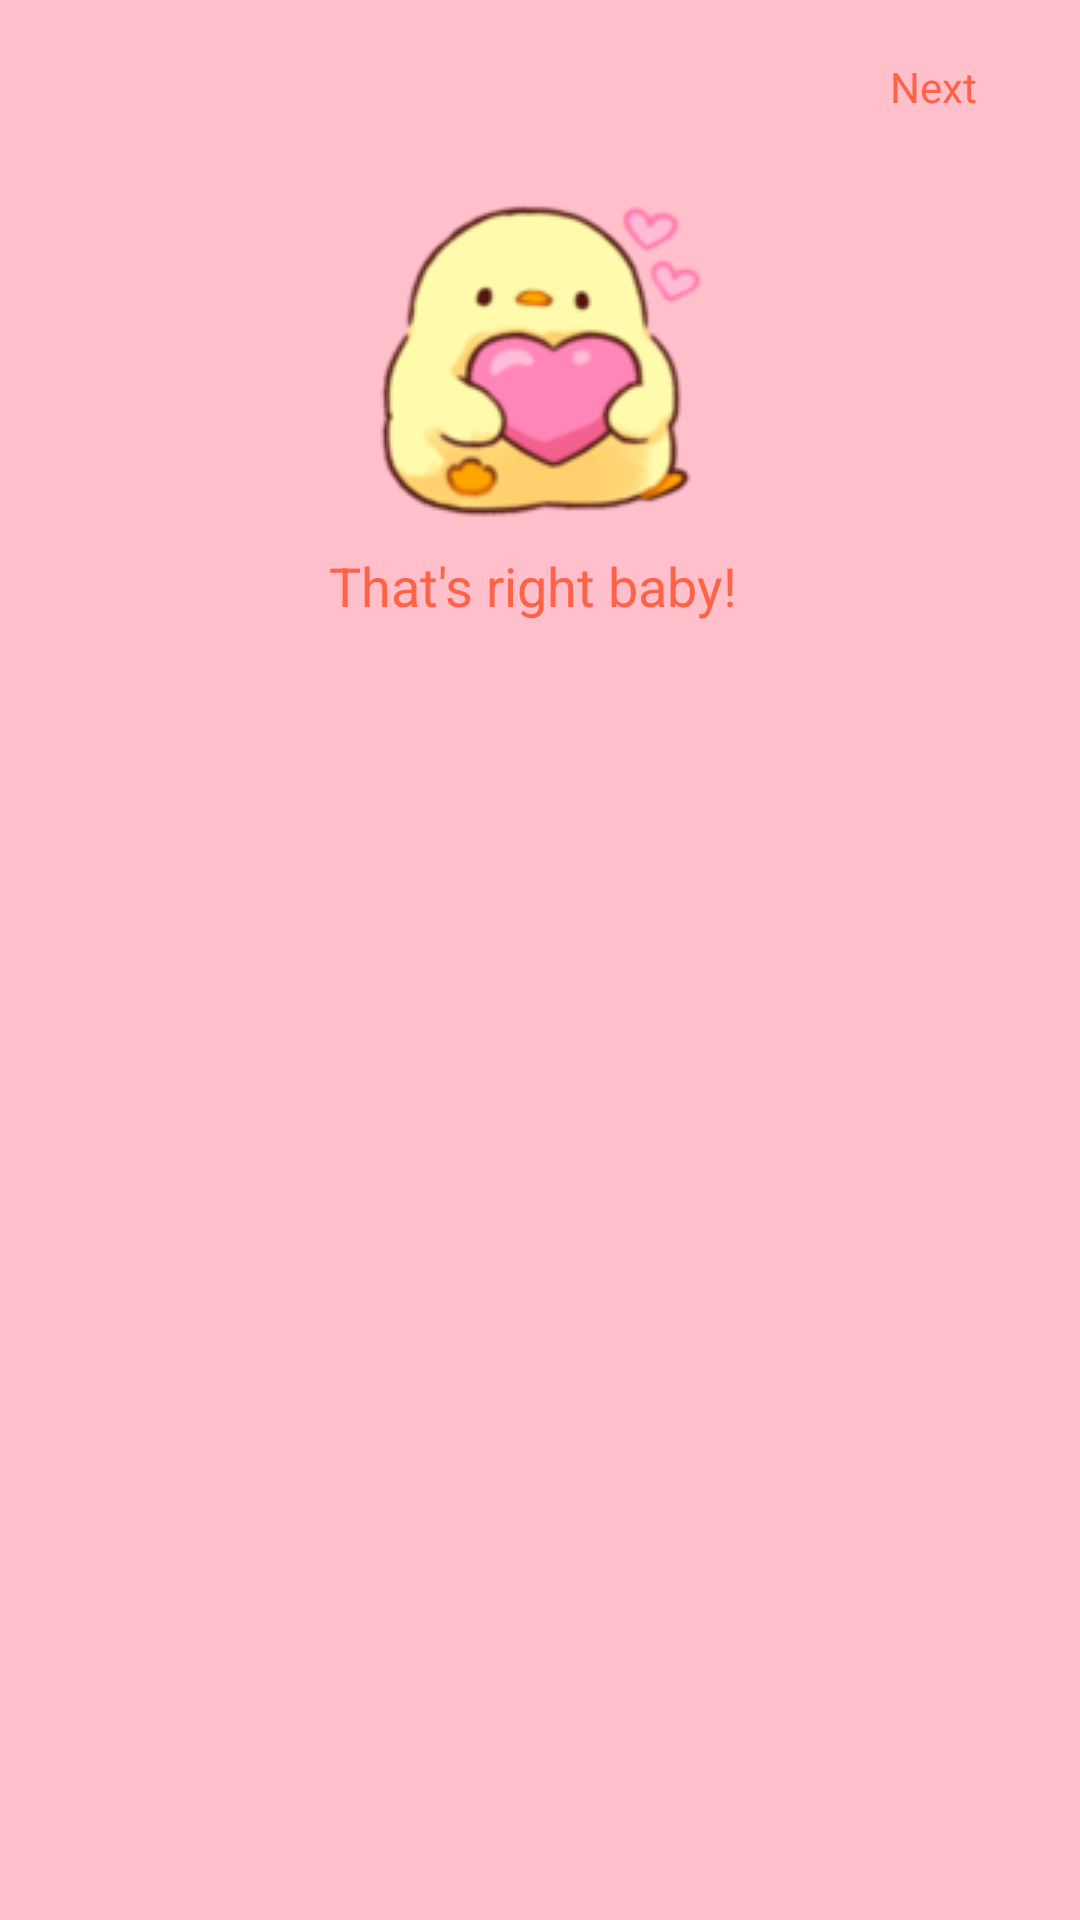

Screen size 1080w x 1920h. Icon name, then its box in pixels as (x1, y1, x2, y2):
chickenlove: (381, 206, 700, 517)
